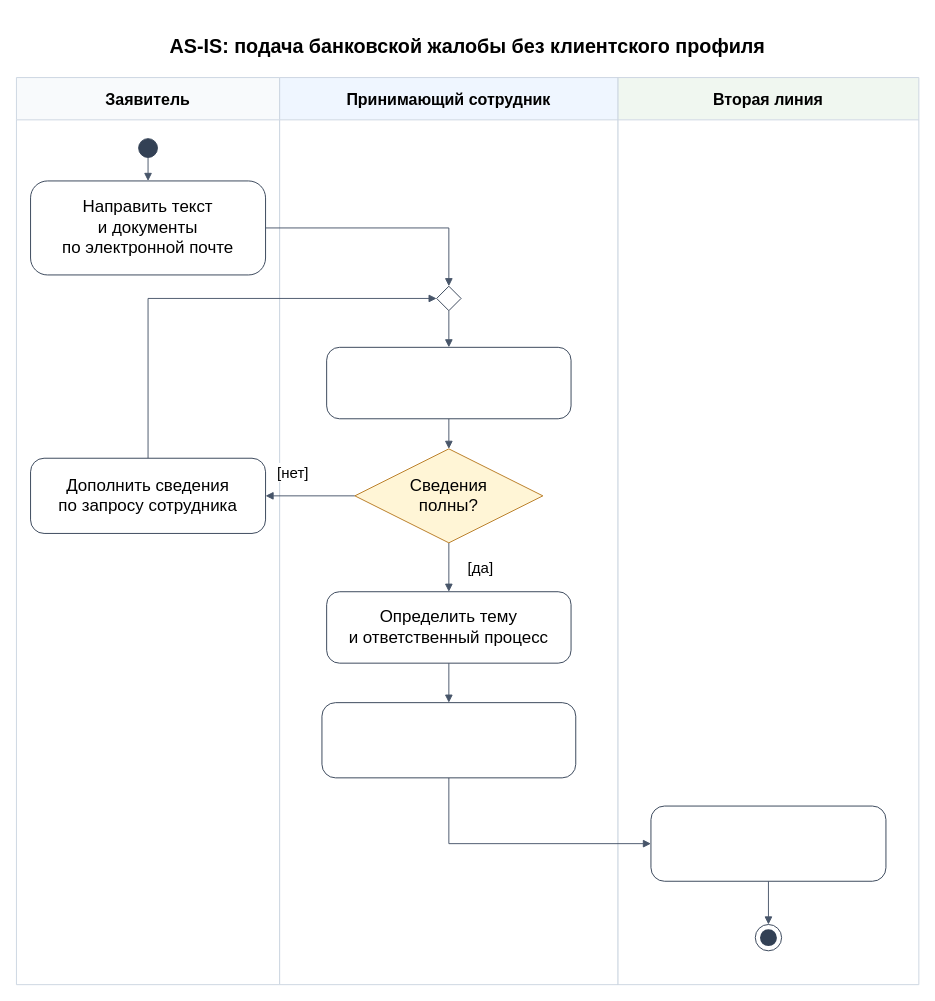
Some shapes in this 935 by 1001 pixel diagram are drawn without their labels. The centre of each missing label's shape, as x and y in pixels:
"Внести сведения и зарегистрировать задание" goes at pixel 448 740.
"Получить задание на рассмотрение" goes at pixel 768 843.
"Прочитать обращение и проверить сведения" goes at pixel 448 382.
